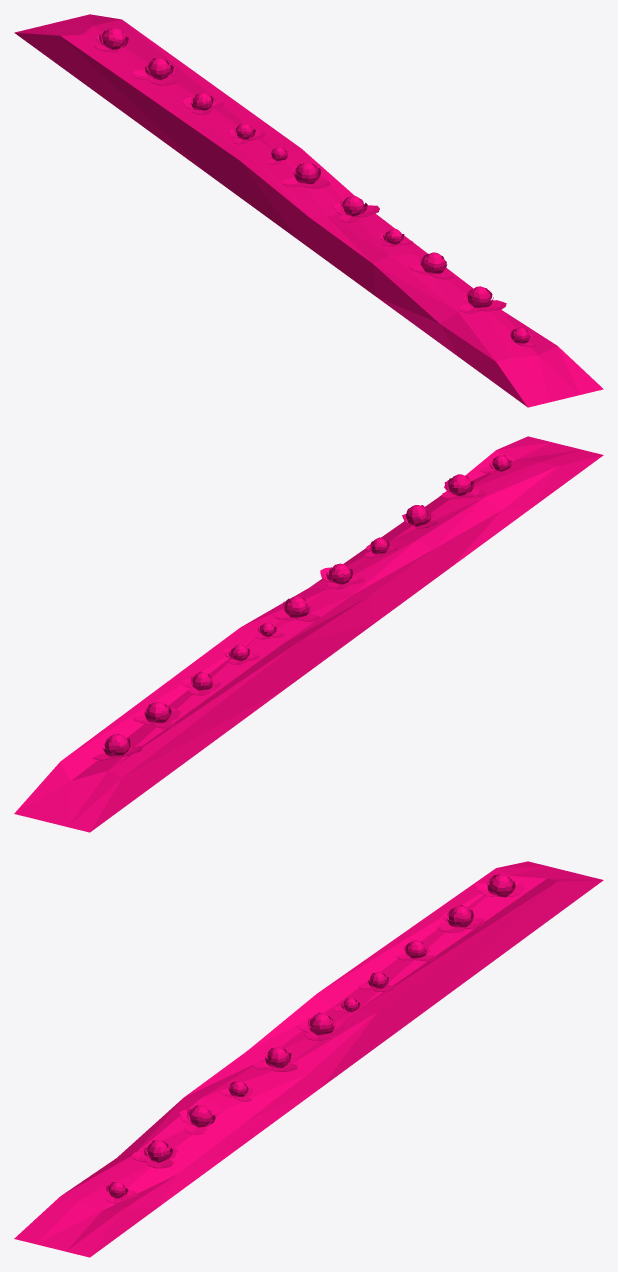
Rendered from SM_SS_Cabbage_garden.fbx.
3 renders of one model, top to bottom at view 1: azimuth 30°, elevation 25°; view 2: azimuth 150°, elevation 25°; view 3: azimuth 330°, elevation 25°, orthographic.
Parts seen in each view (by area): view 1: SM_SS_Cabbage_garden; view 2: SM_SS_Cabbage_garden; view 3: SM_SS_Cabbage_garden.
Part boxes in pixels (x1,y1,x2,y2): SM_SS_Cabbage_garden: (14,14,603,407); SM_SS_Cabbage_garden: (14,436,603,832); SM_SS_Cabbage_garden: (14,861,603,1257).
Size of the model in its own units: 27.65 by 319 by 14.45.
